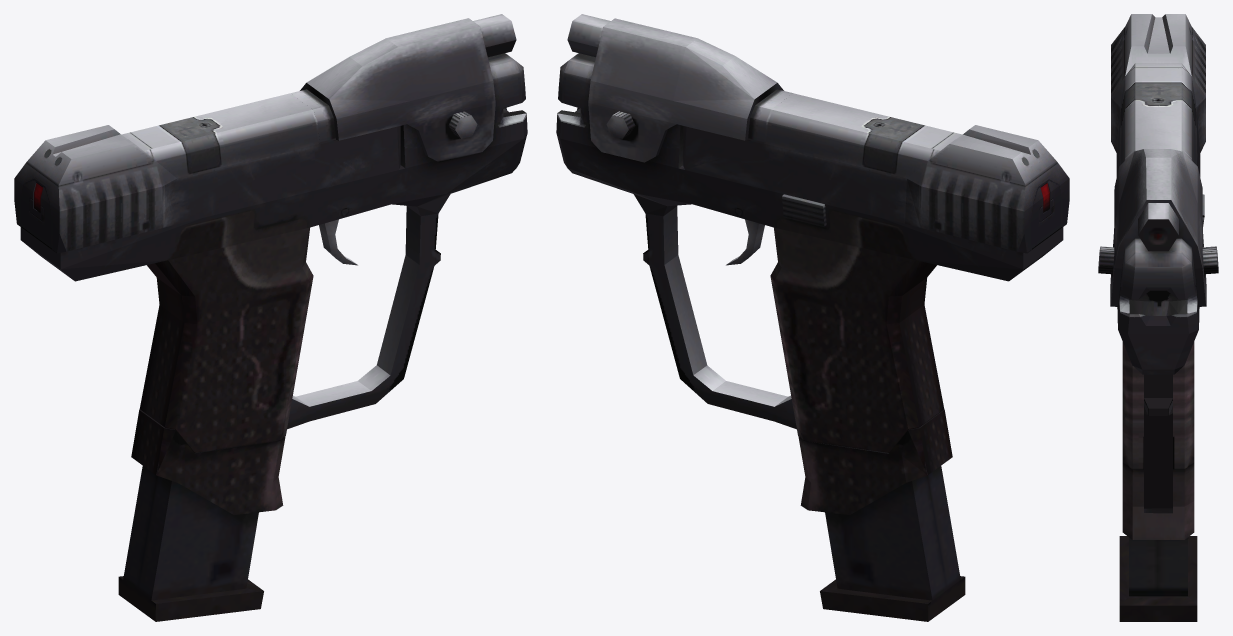
The model's file is Pistol.dae.
3 views of the same model, side by side, from view 1: azimuth 30°, elevation 25°; view 2: azimuth 150°, elevation 25°; view 3: azimuth 270°, elevation 25° (orthographic). The views are drawn at different scales.
Visible parts, largest first — view 1: SketchUp (×3); view 2: SketchUp (×3); view 3: SketchUp (×5).
Boxes of the visible parts, left/top/right/bottom form: SketchUp (×3): left=14, top=14, right=527, bottom=621; SketchUp (×3): left=556, top=14, right=1069, bottom=621; SketchUp (×5): left=1098, top=14, right=1218, bottom=621.
Bounding box in the file's own units: 8.79 × 1.83 × 9.11.
Materials: 2 (1 with a texture image).
